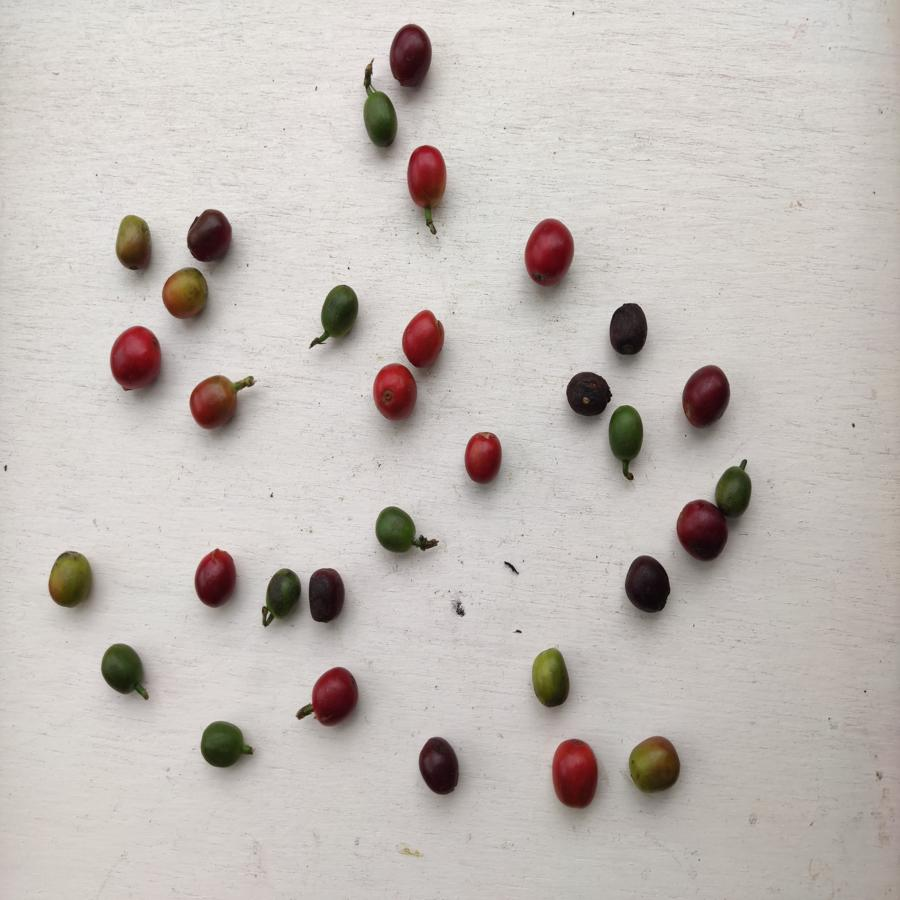Inmaduro: (196, 718, 247, 772), (98, 642, 147, 698), (315, 282, 363, 339), (360, 86, 402, 145), (607, 404, 648, 460), (372, 507, 420, 552), (261, 568, 302, 618), (717, 467, 753, 516)
Maduro: (550, 737, 604, 810), (107, 327, 163, 392), (367, 363, 423, 424), (522, 219, 573, 285), (402, 143, 450, 208), (189, 372, 241, 429), (396, 311, 448, 366), (463, 431, 505, 486)
Pinton: (623, 735, 682, 794), (110, 213, 157, 274), (44, 550, 92, 608), (160, 266, 210, 319), (532, 648, 573, 710)
Sobremaduro: (681, 364, 733, 430), (308, 665, 360, 730), (677, 499, 730, 562), (388, 22, 436, 88), (622, 553, 672, 615), (190, 549, 239, 611), (414, 734, 462, 796), (186, 209, 235, 262), (607, 303, 652, 360), (303, 569, 347, 623), (565, 368, 611, 418)
